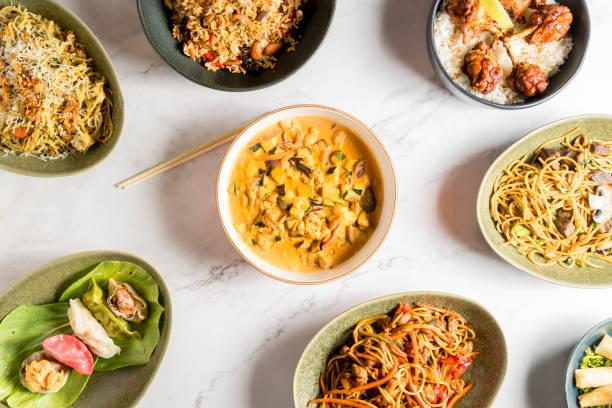Braised Crucian Carp: (216, 104, 393, 284), (0, 250, 172, 408), (292, 290, 510, 406), (475, 114, 610, 286), (1, 0, 125, 179), (137, 0, 333, 92), (427, 0, 588, 110)
